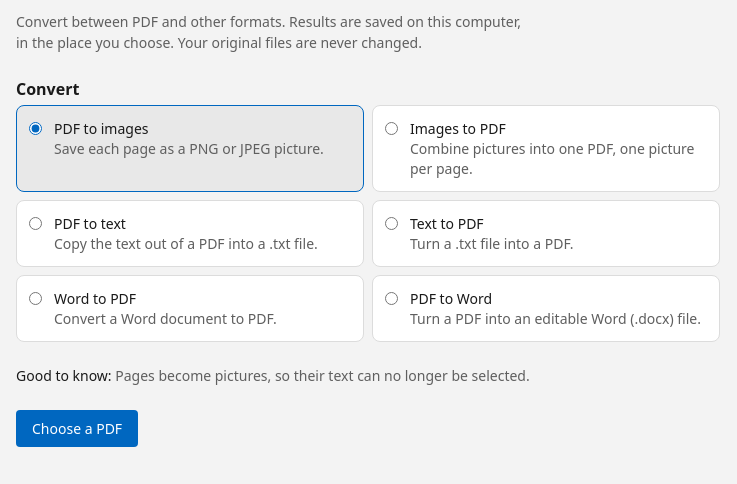
Convert page › explains PDF to Word limits honestly
Click the radio button labelled "PDF to Word Turn a PDF into an editable Word (.docx) file." at (392, 298), box left=385, top=292, right=398, bottom=305
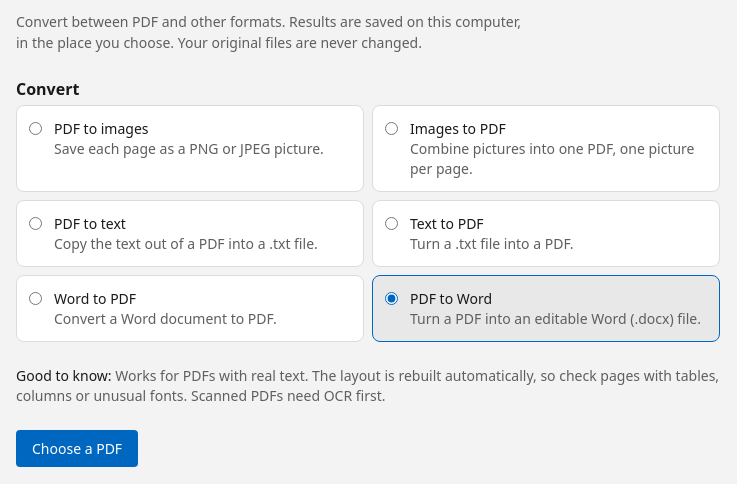
Now the text "need OCR first" is shown, box left=16, top=366, right=719, bottom=405
